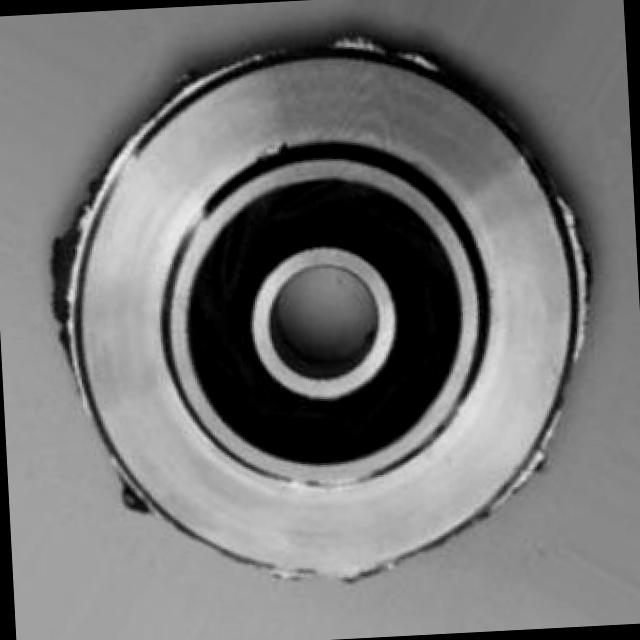Defect: (334, 23, 399, 68)
